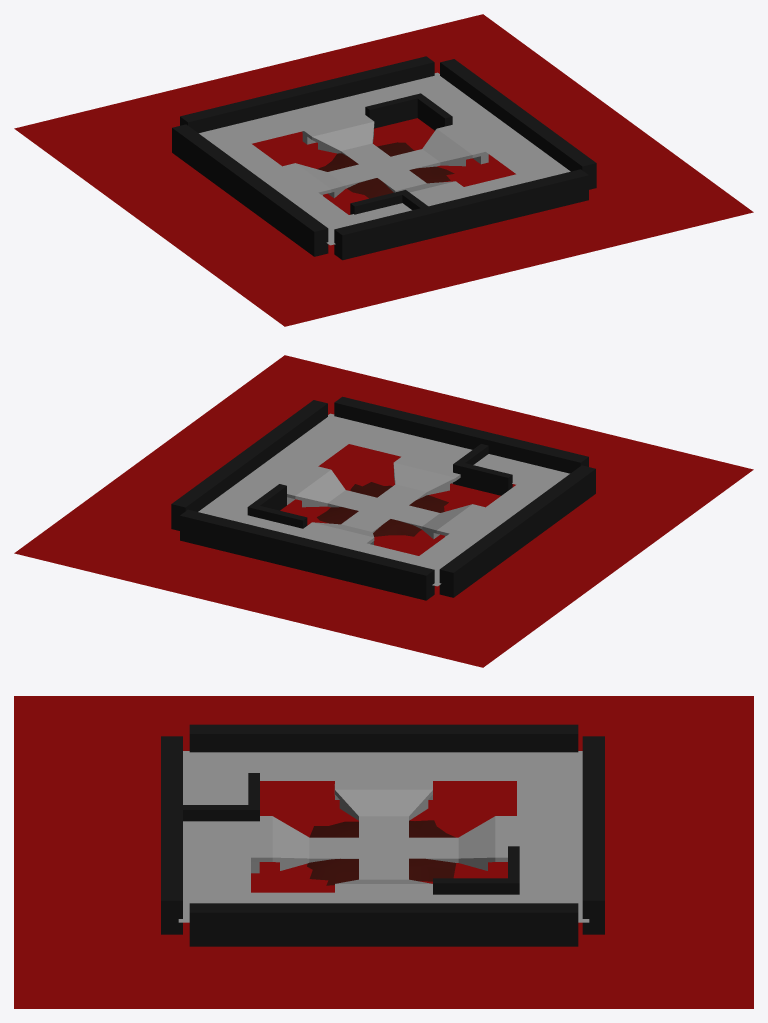
The model's file is Crucible v2.FBX.
3 views of the same model, one above another, from view 1: azimuth 30°, elevation 25°; view 2: azimuth 150°, elevation 25°; view 3: azimuth 270°, elevation 25° (orthographic). The views are drawn at different scales.
Visible parts, largest first — view 1: Lava, South Outer Wall, West Outer Wall, North Outer Wall, East Floor, East Outer Wall, West Floor, North Floor, NE Inner Wall, North Ramp, Terain, South Floor (+6 smaller); view 2: Lava, North Outer Wall, West Outer Wall, South Outer Wall, East Floor, East Outer Wall, West Floor, South Floor, Terain, North Floor, Path E W, SW Inner Wall (+6 smaller); view 3: Lava, East Outer Wall, West Floor, West Outer Wall, North Floor, South Floor, East Floor, North Outer Wall, South Outer Wall, Terain, West Ramp, Path E W (+6 smaller).
Boxes of the visible parts, bbox=[...] form: Lava: bbox=[14, 14, 753, 326]; South Outer Wall: bbox=[334, 169, 588, 260]; West Outer Wall: bbox=[172, 124, 328, 256]; North Outer Wall: bbox=[180, 56, 434, 133]; East Floor: bbox=[395, 72, 570, 182]; East Outer Wall: bbox=[440, 59, 596, 189]; West Floor: bbox=[199, 126, 358, 245]; North Floor: bbox=[228, 84, 410, 143]; NE Inner Wall: bbox=[365, 93, 452, 130]; North Ramp: bbox=[302, 115, 374, 153]; Terain: bbox=[317, 142, 454, 198]; South Floor: bbox=[345, 174, 526, 224]; Lava: bbox=[14, 355, 753, 667]; North Outer Wall: bbox=[180, 509, 434, 600]; West Outer Wall: bbox=[439, 465, 595, 597]; South Outer Wall: bbox=[334, 396, 588, 473]; East Floor: bbox=[198, 413, 372, 522]; East Outer Wall: bbox=[171, 400, 327, 530]; West Floor: bbox=[409, 466, 569, 586]; South Floor: bbox=[344, 424, 546, 484]; Terain: bbox=[317, 482, 448, 536]; North Floor: bbox=[235, 513, 423, 564]; Path E W: bbox=[327, 490, 439, 529]; SW Inner Wall: bbox=[453, 444, 512, 495]; Lava: bbox=[14, 696, 753, 1008]; East Outer Wall: bbox=[189, 903, 578, 946]; West Floor: bbox=[183, 751, 582, 780]; West Outer Wall: bbox=[189, 724, 578, 752]; North Floor: bbox=[517, 779, 582, 892]; South Floor: bbox=[183, 778, 250, 892]; East Floor: bbox=[178, 892, 589, 922]; North Outer Wall: bbox=[582, 736, 604, 934]; South Outer Wall: bbox=[161, 736, 182, 934]; Terain: bbox=[307, 820, 456, 885]; West Ramp: bbox=[335, 779, 432, 820]; Path E W: bbox=[359, 816, 408, 879].
Size of the model in its own units: 5906 by 773 by 5906.
